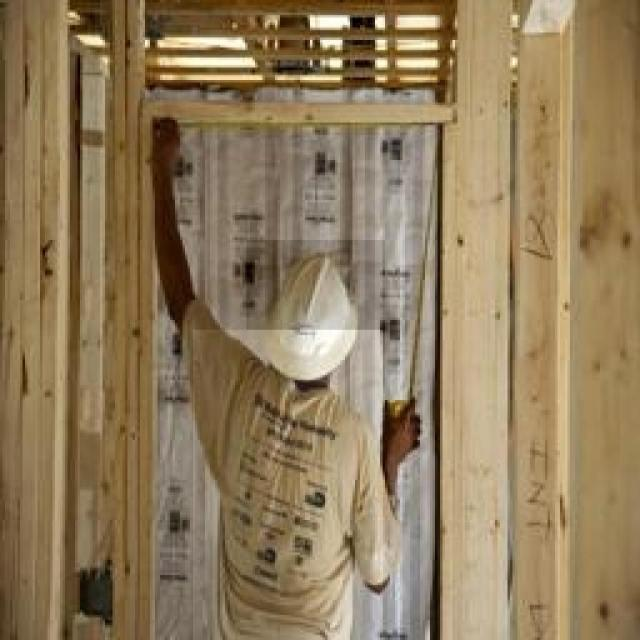Helmet: (194, 330, 384, 640), (247, 240, 385, 394)
